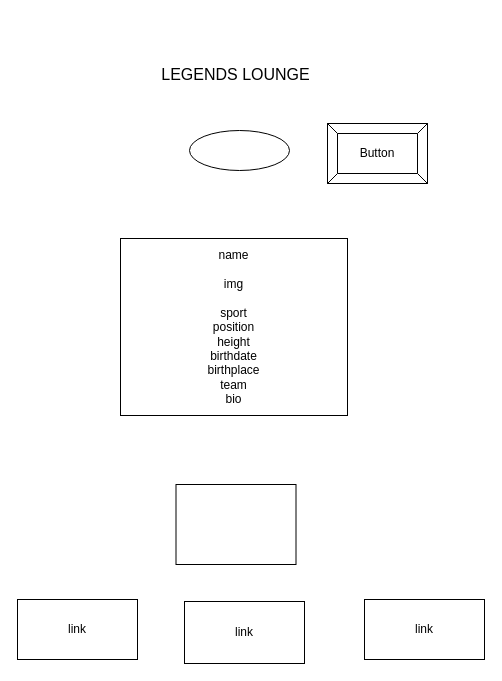
Some shapes in this 502 by 681 pixel diagram are drawn without their labels. The box of each missing label's shape, as (x1, y1, x2, y2) in pixels:
pictures: (175, 484, 296, 564)
Search player: (188, 130, 290, 170)
